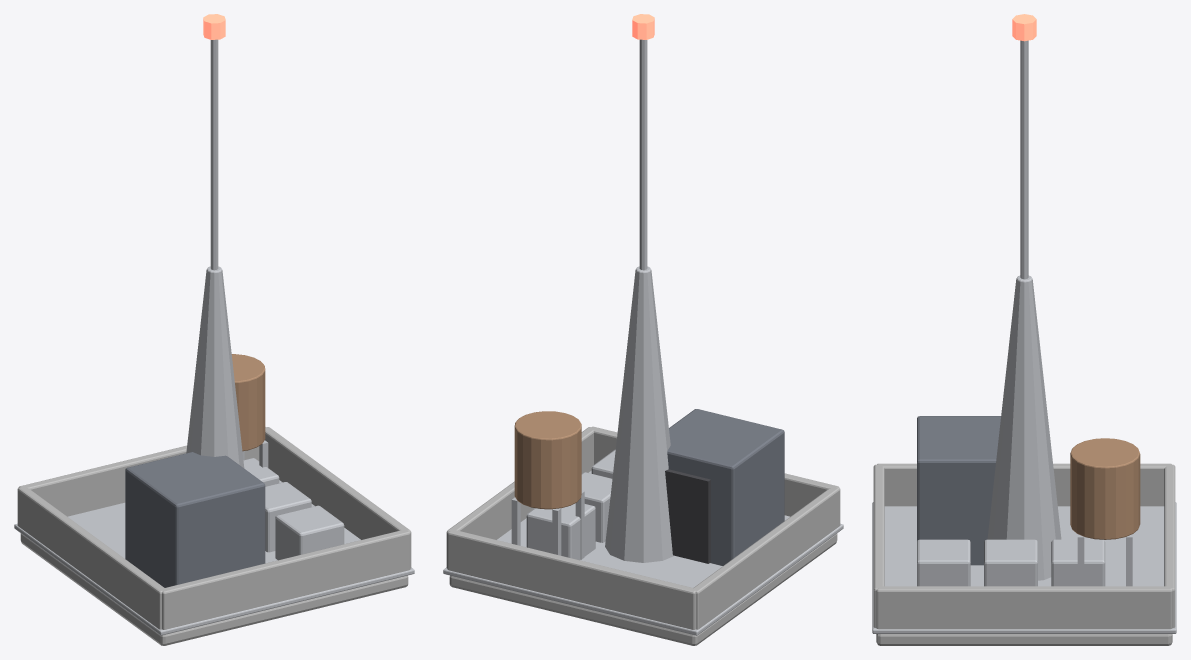
The model's file is roof_2x2_spire_office.glb.
3 renders of one model, left to right at view 1: azimuth 30°, elevation 25°; view 2: azimuth 150°, elevation 25°; view 3: azimuth 270°, elevation 25°, orthographic. The views are drawn at different scales.
Visible parts, largest first — view 1: ext_parapet, ext_penthouse, ext_spire, ext_ac, int_slab, int_slab_edge, ext_tank, ext_mast; view 2: ext_parapet, ext_spire, ext_penthouse, ext_tank, int_slab_edge, ext_ac, int_slab, ext_penthouse_door, ext_mast, ext_tank_legs; view 3: ext_parapet, ext_spire, ext_penthouse, int_slab_edge, ext_ac, ext_tank, int_slab, ext_mast, ext_tank_legs, ext_beacon.
Boxes of the visible parts, left/top/right/bottom form: ext_parapet: left=17, top=427, right=411, bottom=629; ext_penthouse: left=125, top=452, right=265, bottom=587; ext_spire: left=186, top=266, right=244, bottom=467; ext_ac: left=243, top=458, right=344, bottom=560; int_slab: left=20, top=533, right=408, bottom=645; int_slab_edge: left=14, top=480, right=414, bottom=635; ext_tank: left=231, top=354, right=265, bottom=451; ext_mast: left=210, top=39, right=218, bottom=270; ext_parapet: left=446, top=426, right=840, bottom=629; ext_spire: left=605, top=266, right=674, bottom=562; ext_penthouse: left=667, top=409, right=784, bottom=565; ext_tank: left=514, top=411, right=581, bottom=509; int_slab_edge: left=443, top=470, right=843, bottom=635; ext_ac: left=526, top=449, right=615, bottom=560; int_slab: left=449, top=533, right=837, bottom=645; ext_penthouse_door: left=665, top=469, right=710, bottom=563; ext_mast: left=639, top=39, right=647, bottom=270; ext_tank_legs: left=511, top=491, right=584, bottom=559; ext_parapet: left=873, top=463, right=1175, bottom=629; ext_spire: left=987, top=275, right=1061, bottom=580; ext_penthouse: left=917, top=416, right=1000, bottom=565; int_slab_edge: left=872, top=502, right=1176, bottom=633; ext_ac: left=917, top=539, right=1105, bottom=586; ext_tank: left=1070, top=438, right=1140, bottom=539; int_slab: left=876, top=634, right=1172, bottom=645; ext_mast: left=1020, top=40, right=1028, bottom=279; ext_tank_legs: left=1077, top=534, right=1132, bottom=586; ext_beacon: left=1012, top=14, right=1036, bottom=41.
Bounding box in the file's own units: 2.26 × 4.64 × 2.26.
